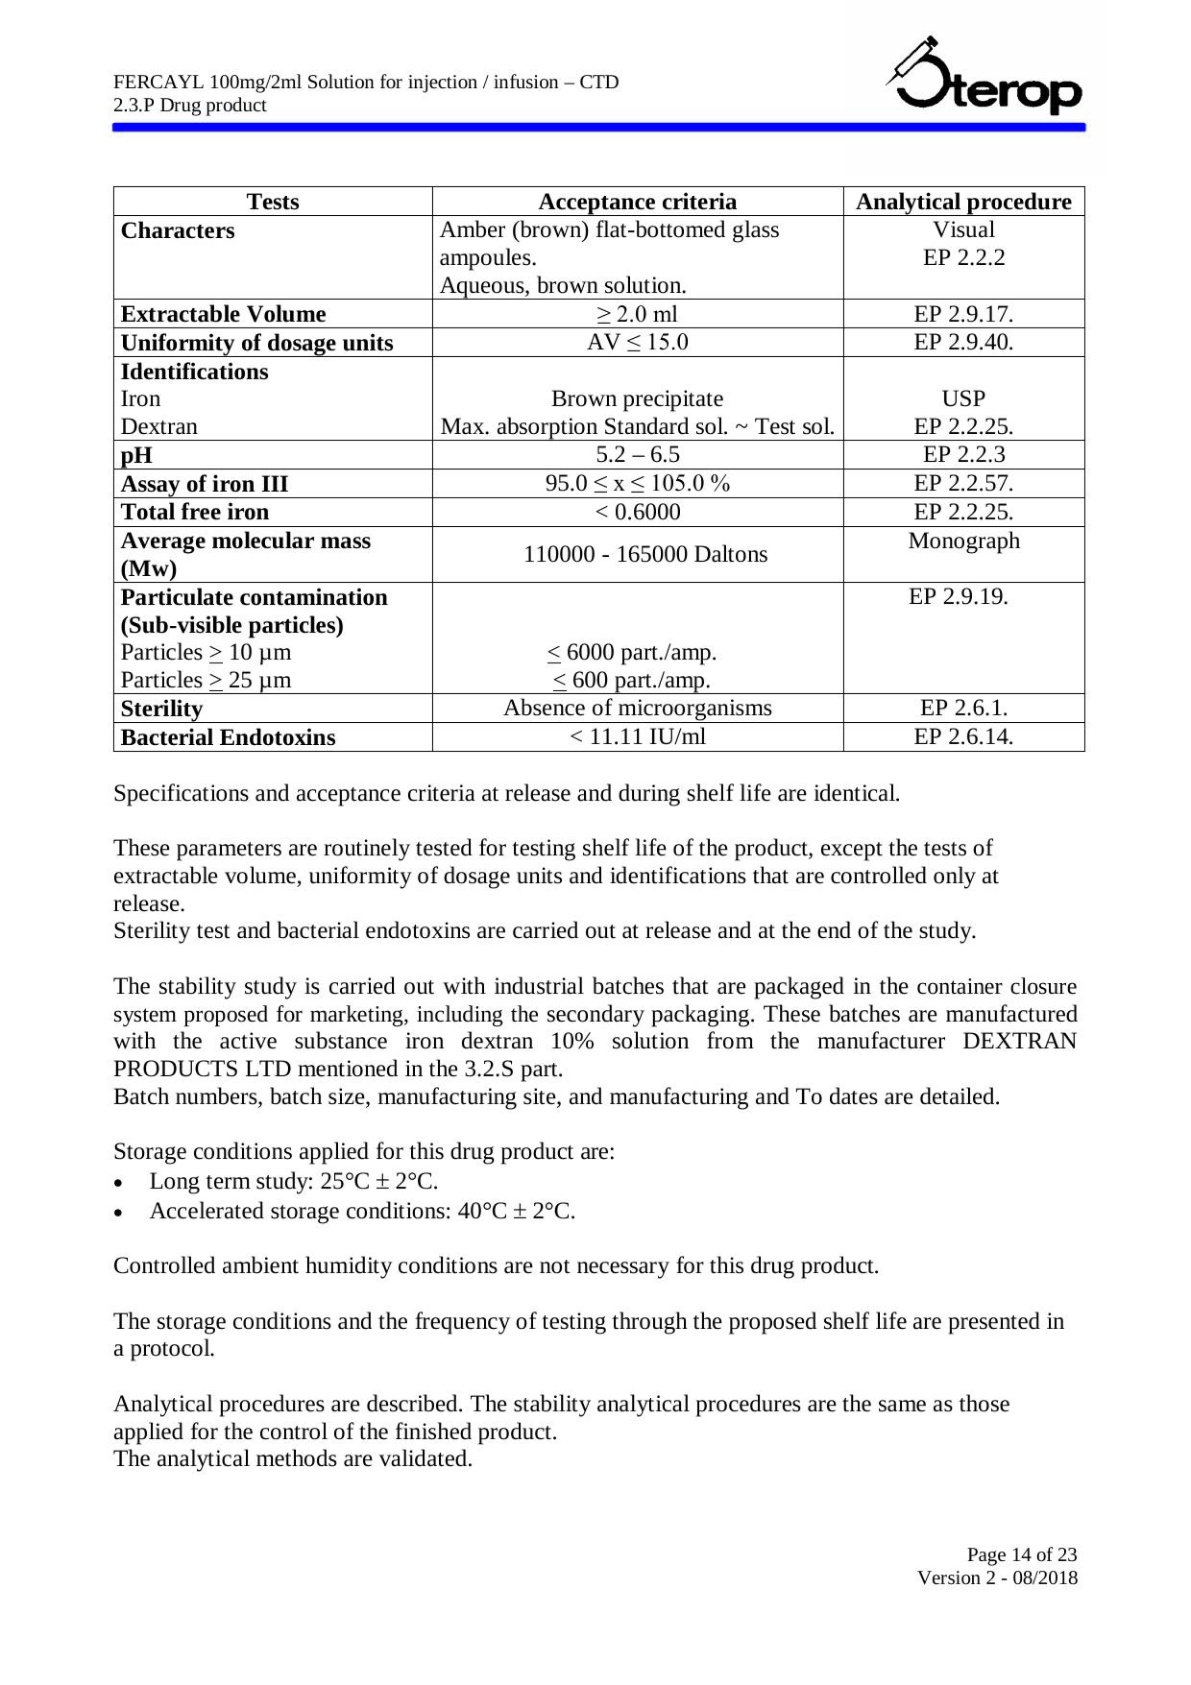full_lined: (113, 184, 1087, 753)
